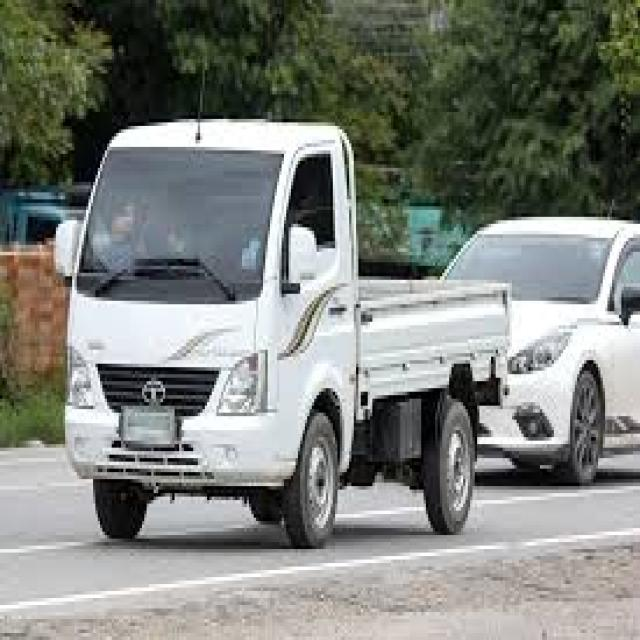Vehicles: (42, 94, 520, 591)
